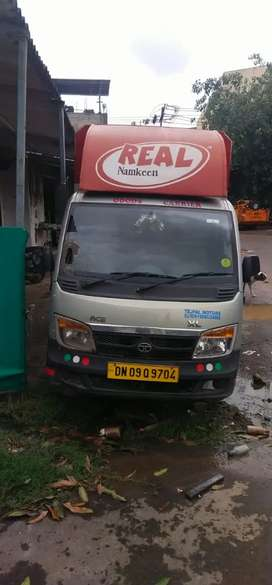DN0909704: (106, 362, 179, 381)
